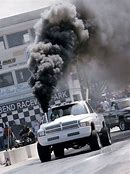smoke: (27, 1, 82, 112)
